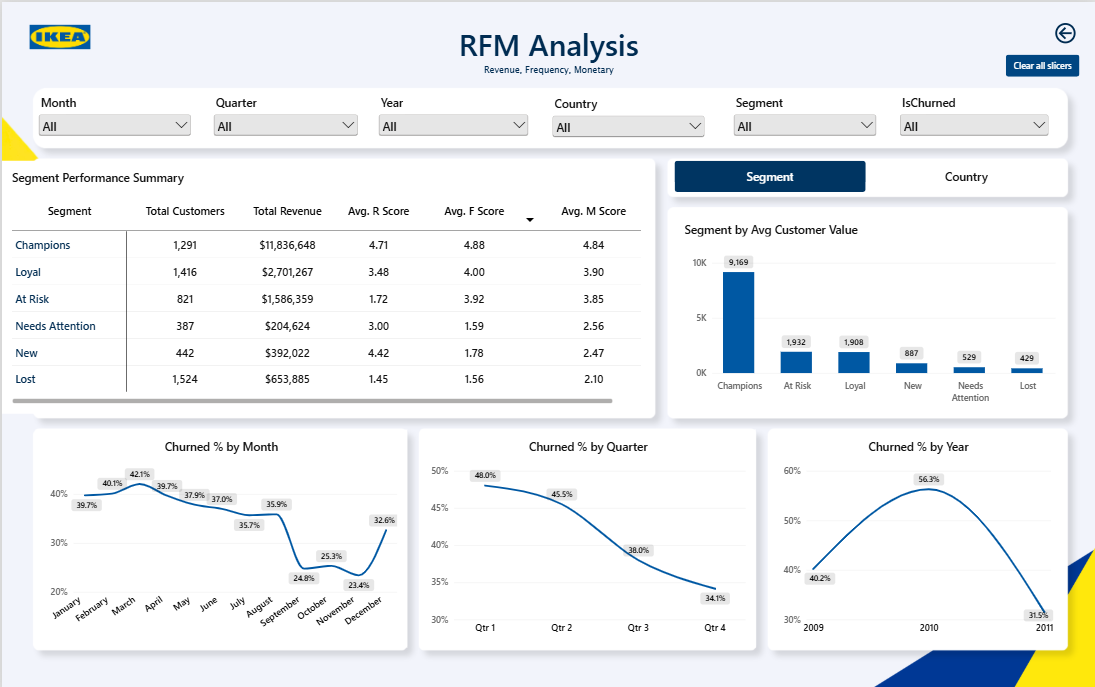

This screenshot's page, from the dashboard's own definition file:
{"tool":"powerbi","page":{"name":"RFM Analysis","canvas":[1750,1100],"ordinal":1},"visuals":[{"type":"lineChart","title":"Churned % by Month ","fields":{"Category":["Sheet1.InvoiceDate.Variation.Date Hierarchy.Month"],"Y":["Sheet1.Churned %"]},"box":[54.4,684.2,594.2,348.7],"z":2000,"group":"g1"},{"type":"lineChart","fields":{"Category":["Sheet1.InvoiceDate.Variation.Date Hierarchy.Quarter"],"Y":["Sheet1.Churned %"]},"box":[671.1,684.2,536.1,348.7],"z":3000,"group":"g1"},{"type":"slicer","fields":{"Values":["Sheet1.InvoiceDate.Variation.Date Hierarchy.Month"]},"box":[54.4,148.1,253.1,76.9],"z":4000},{"type":"lineChart","fields":{"Category":["Sheet1.InvoiceDate.Variation.Date Hierarchy.Year"],"Y":["Sheet1.Churned %"]},"box":[1233.4,684.2,464.9,348.7],"z":4000,"group":"g1"},{"type":"slicer","fields":{"Values":["Sheet1.InvoiceDate.Variation.Date Hierarchy.Quarter"]},"box":[333.7,148.1,239.9,76.9],"z":5000},{"type":"slicer","fields":{"Values":["Sheet1.InvoiceDate.Variation.Date Hierarchy.Year"]},"box":[598,148.1,249.3,76.9],"z":6000},{"type":"slicer","fields":{"Values":["Sheet1.Country"]},"box":[875.4,150,253.1,75],"z":7000},{"type":"slicer","fields":{"Values":["Sheet1.Segment"]},"box":[1165.9,148.1,238.1,76.9],"z":8000},{"type":"slicer","fields":{"Values":["Sheet1.IsChurned"]},"box":[1432.1,148.1,247.4,75],"z":9000},{"type":"group","id":"g1","title":"Revenue","box":[54.4,684.2,1643.9,348.7],"z":11000},{"type":"bookmarkNavigator","box":[1075.9,254.9,620.5,50.6],"z":12000},{"type":"image","box":[3.7,15,178.1,84.4],"z":13000},{"type":"textbox","box":[558.2,33.7,633.6,99.3],"z":14000},{"type":"actionButton","box":[1651.4,13.1,99.3,71.2],"z":15000},{"type":"actionButton","box":[1606.4,84.4,118.1,35.6],"z":16000},{"type":"pivotTable","title":"Segment Performance Summary","fields":{"Rows":["Sheet1.Segment"],"Values":["Sheet1.Total Customers","Sheet1.Total Revenue","Avg(Sheet1.R_Score)","Avg(Sheet1.F_Score)","Avg(Sheet1.M_Score)"]},"box":[0,254.9,1038.5,404.9],"z":16001},{"type":"columnChart","title":"Segment by Avg Customer Value ","fields":{"Category":["Sheet1.Segment"],"Y":["Sheet1.Avg Customer Value"]},"box":[1075.9,335.5,626.1,324.3],"z":16002}]}

Visuals, with their boxes in screenshot pixels (x1, y1, x2, y2), scaled from the page's 1750x1100 canvas onto the 1095x687 screenshot:
"Churned % by Month " lineChart: 34,427,406,645
lineChart - Sheet1.InvoiceDate.Variation.Date Hierarchy.Quarter x Sheet1.Churned %: 420,427,755,645
slicer - Sheet1.InvoiceDate.Variation.Date Hierarchy.Month: 34,92,192,141
lineChart - Sheet1.InvoiceDate.Variation.Date Hierarchy.Year x Sheet1.Churned %: 772,427,1063,645
slicer - Sheet1.InvoiceDate.Variation.Date Hierarchy.Quarter: 209,92,359,141
slicer - Sheet1.InvoiceDate.Variation.Date Hierarchy.Year: 374,92,530,141
slicer - Sheet1.Country: 548,94,706,141
slicer - Sheet1.Segment: 730,92,879,141
slicer - Sheet1.IsChurned: 896,92,1051,139
"Revenue" group: 34,427,1063,645
bookmarkNavigator: 673,159,1061,191
image: 2,9,114,62
textbox: 349,21,746,83
actionButton: 1033,8,1094,53
actionButton: 1005,53,1079,75
"Segment Performance Summary" pivotTable: 0,159,650,412
"Segment by Avg Customer Value " columnChart: 673,210,1065,412
